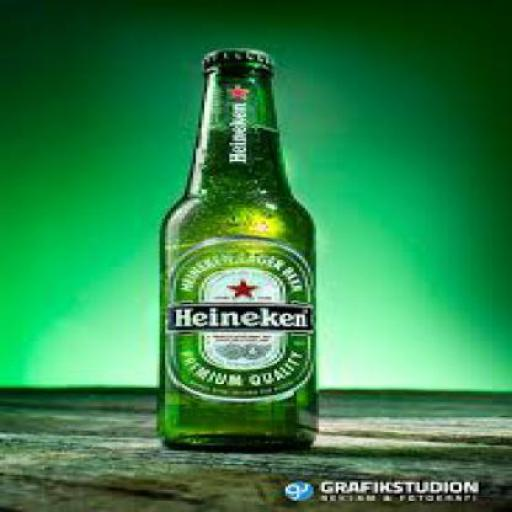glass: (154, 59, 314, 451)
metal: (196, 46, 268, 65)
